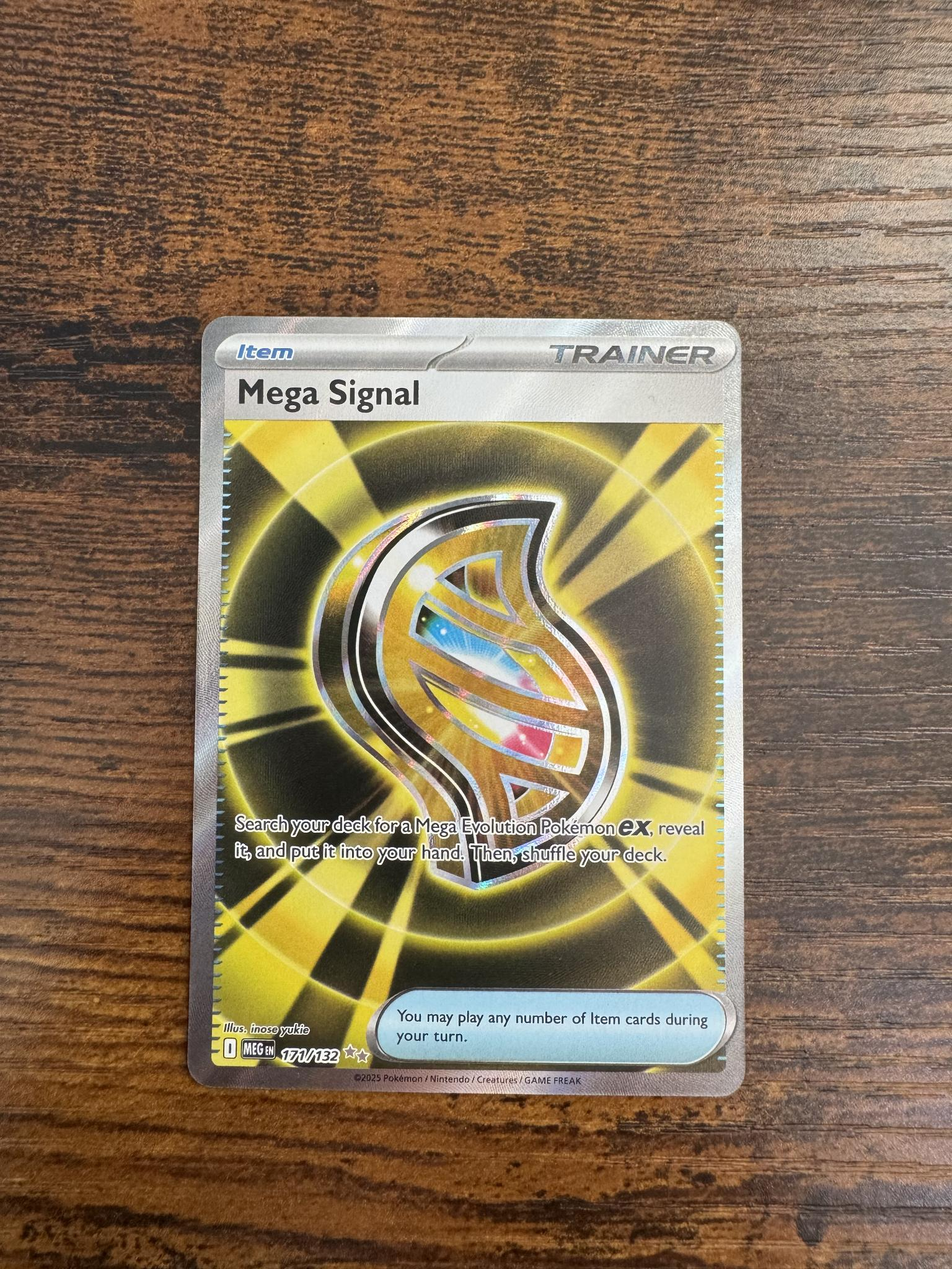card-2UtV: (187, 316, 746, 1097)
